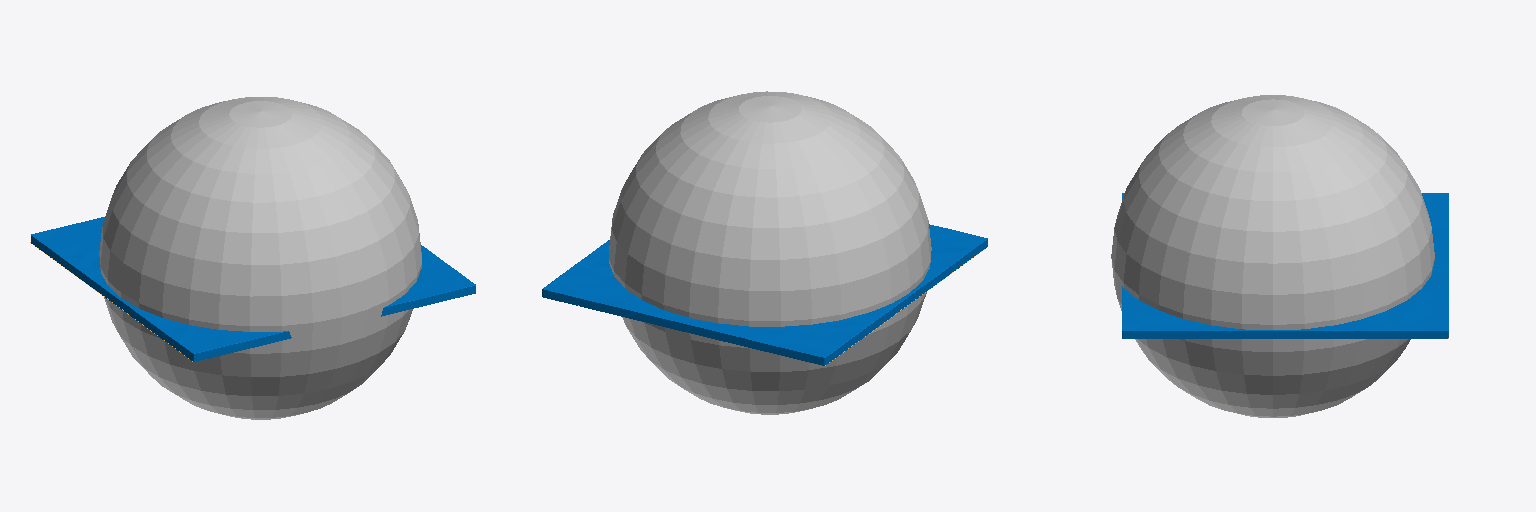
3 views of the same model, side by side, from view 1: azimuth 30°, elevation 25°; view 2: azimuth 150°, elevation 25°; view 3: azimuth 270°, elevation 25° (orthographic).
Visible parts, largest first — view 1: Sky_Sphere.001, water_Cube.006; view 2: Sky_Sphere.001, water_Cube.006; view 3: Sky_Sphere.001, water_Cube.006.
Boxes of the visible parts, <box> form: Sky_Sphere.001: <box>99,97,421,419</box>; water_Cube.006: <box>31,217,475,361</box>; Sky_Sphere.001: <box>609,91,931,414</box>; water_Cube.006: <box>542,224,987,365</box>; Sky_Sphere.001: <box>1111,95,1434,417</box>; water_Cube.006: <box>1122,193,1448,338</box>.
Size of the model in its own units: 42.45 by 42 by 43.79.
Materials: 15 (13 with a texture image).